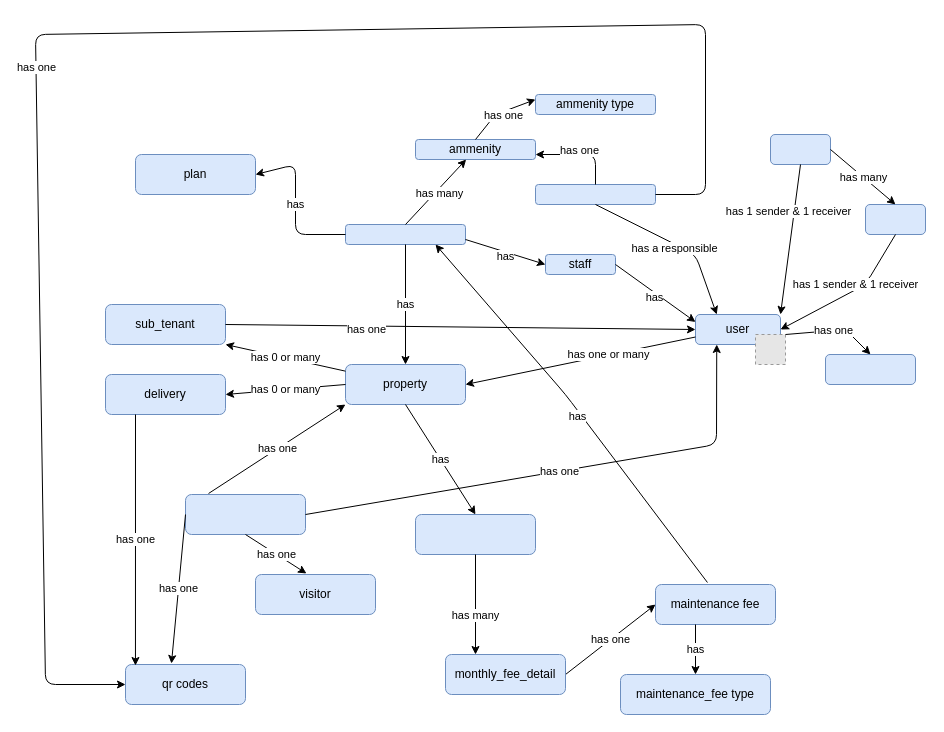
Image size: 944x732. Some labels were removed from this diagram. Grey dashed boxes stand in for pictures. The shapes that lost their labels are listed below. From the top down, each one's centre as x and y in pixels, then its label:
At point (800, 149): "message".
At point (595, 194): "ammenity reservation".
At point (405, 234): "residential".
At point (895, 219): "chat".
At point (870, 369): "user_level".
At point (245, 514): "visit".
At point (475, 534): "monthly_fee".
